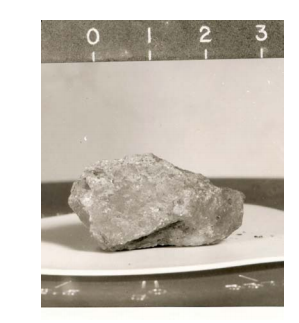Breccia: (55, 127, 260, 274)
